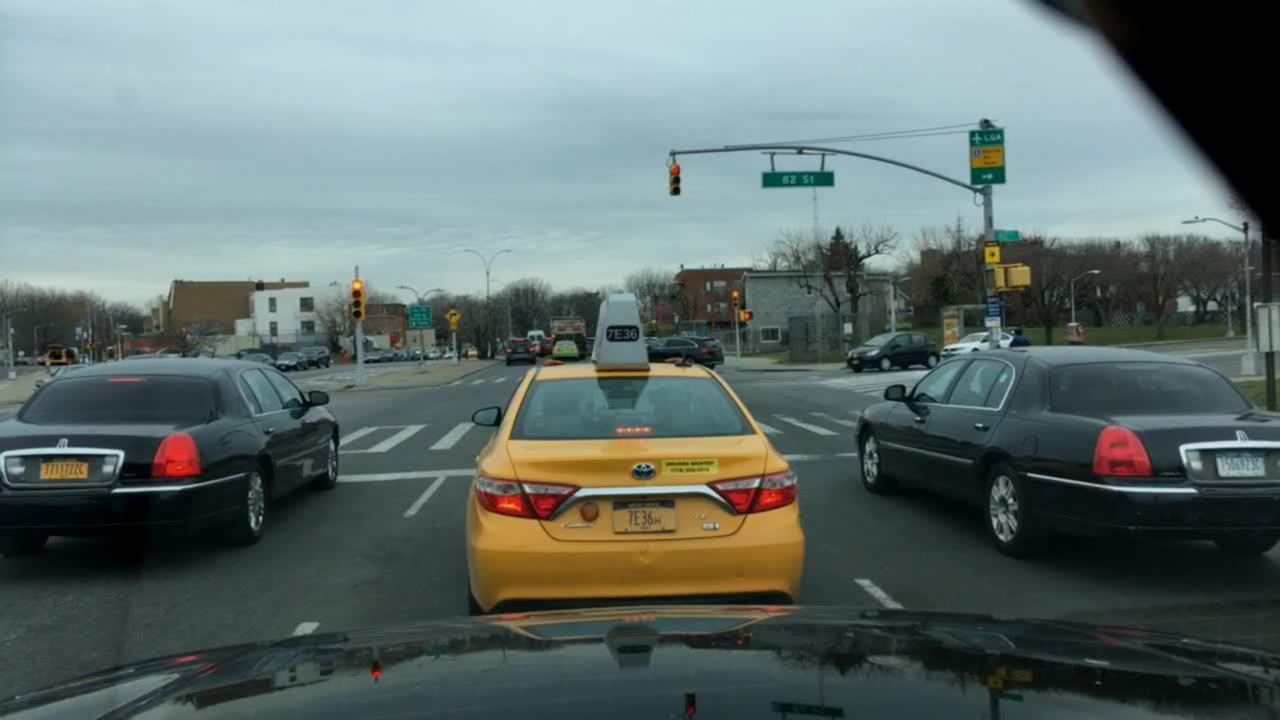Toyota: (628, 462, 662, 480)
lincoln: (1229, 427, 1252, 451), (50, 434, 72, 458)
